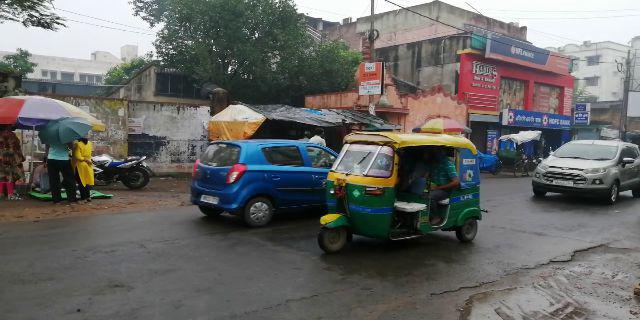Autorickshaw: (325, 133, 487, 251)
Car: (184, 139, 342, 227), (535, 136, 629, 201)
